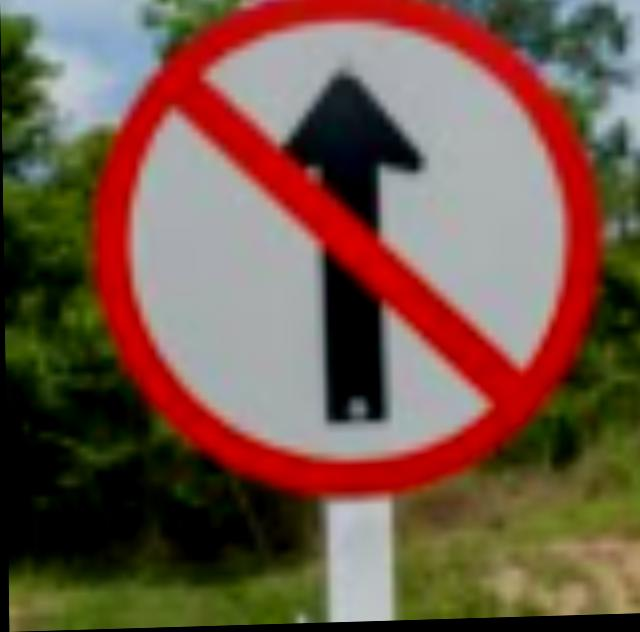not_go_straight: (64, 0, 598, 503)
